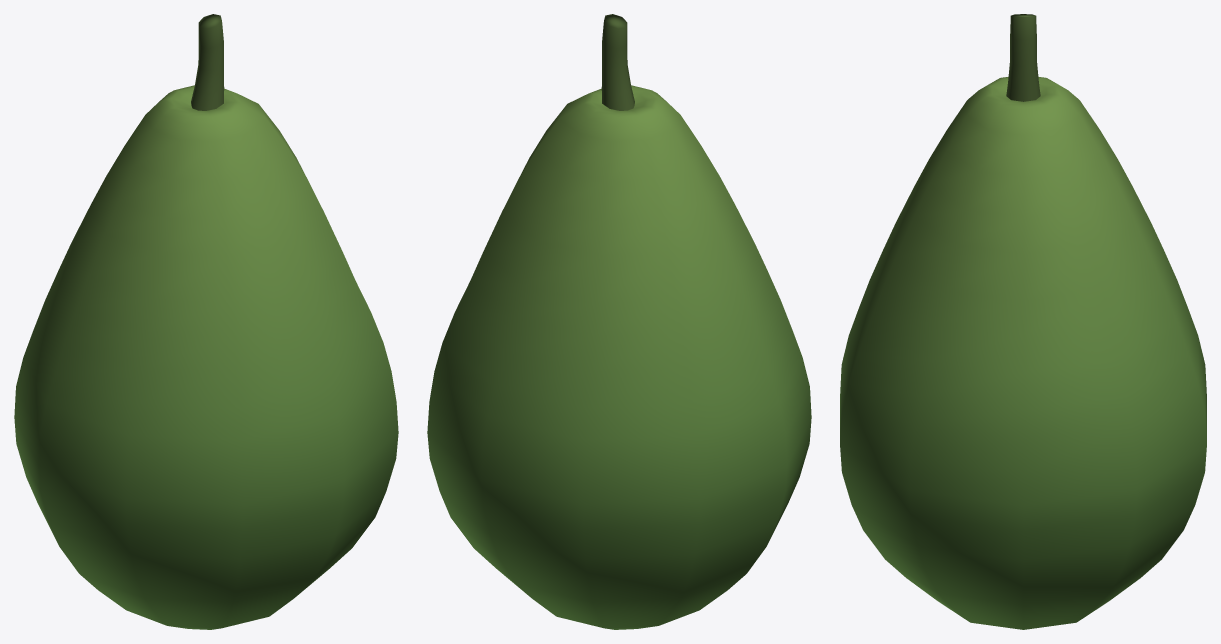
File: Avocado.fbx
The picture shows the model from 3 angles, left to right: view 1: azimuth 30°, elevation 25°; view 2: azimuth 150°, elevation 25°; view 3: azimuth 270°, elevation 25°; orthographic projection.
Parts seen in each view (by area): view 1: Avocado; view 2: Avocado; view 3: Avocado.
Part boxes in pixels (x1=…): Avocado: x1=14, y1=14, x2=398, y2=629; Avocado: x1=427, y1=14, x2=811, y2=629; Avocado: x1=840, y1=14, x2=1206, y2=629.
Size of the model in its own units: 0.3441 by 0.5833 by 0.321.
1 material, 1 textured.
